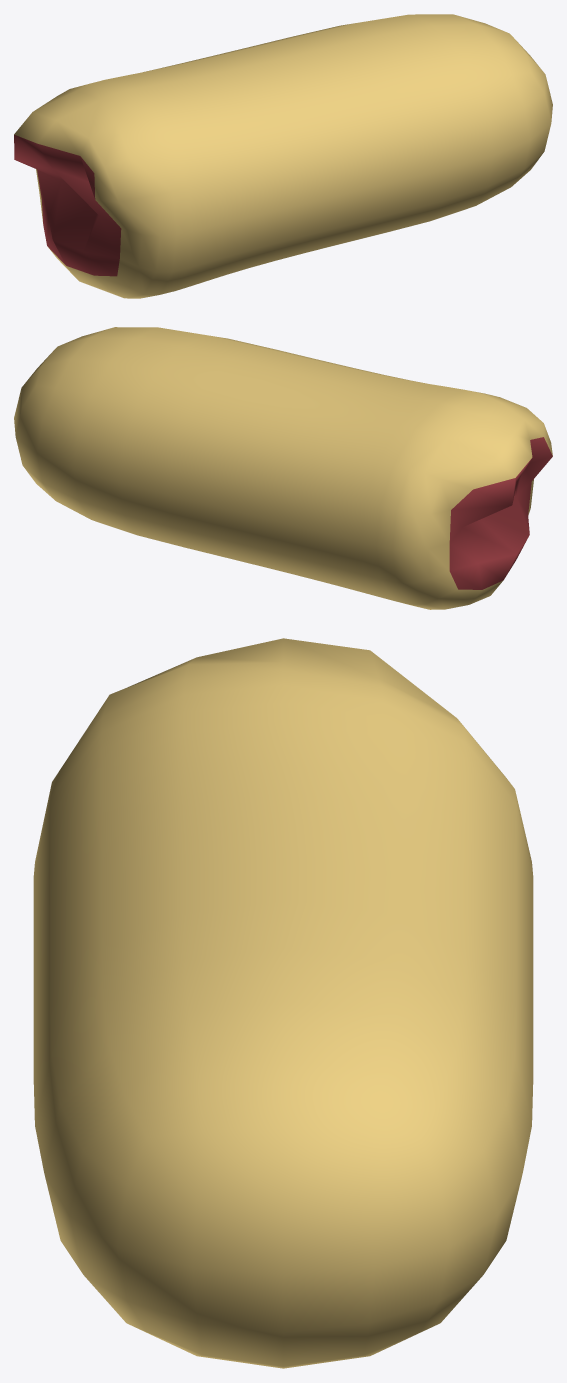
Rendered from LowerArm_Dism.fbx.
3 views of the same model, one above another, from view 1: azimuth 30°, elevation 25°; view 2: azimuth 150°, elevation 25°; view 3: azimuth 270°, elevation 25° (orthographic). The views are drawn at different scales.
Visible parts, largest first — view 1: LowerArm_L.001; view 2: LowerArm_L.001; view 3: LowerArm_L.001.
Part boxes in pixels (left/top/right/bottom): LowerArm_L.001: left=14, top=14, right=552, bottom=298; LowerArm_L.001: left=14, top=327, right=552, bottom=609; LowerArm_L.001: left=33, top=638, right=533, bottom=1368.
Size of the model in its own units: 84.85 by 30.98 by 36.5.
